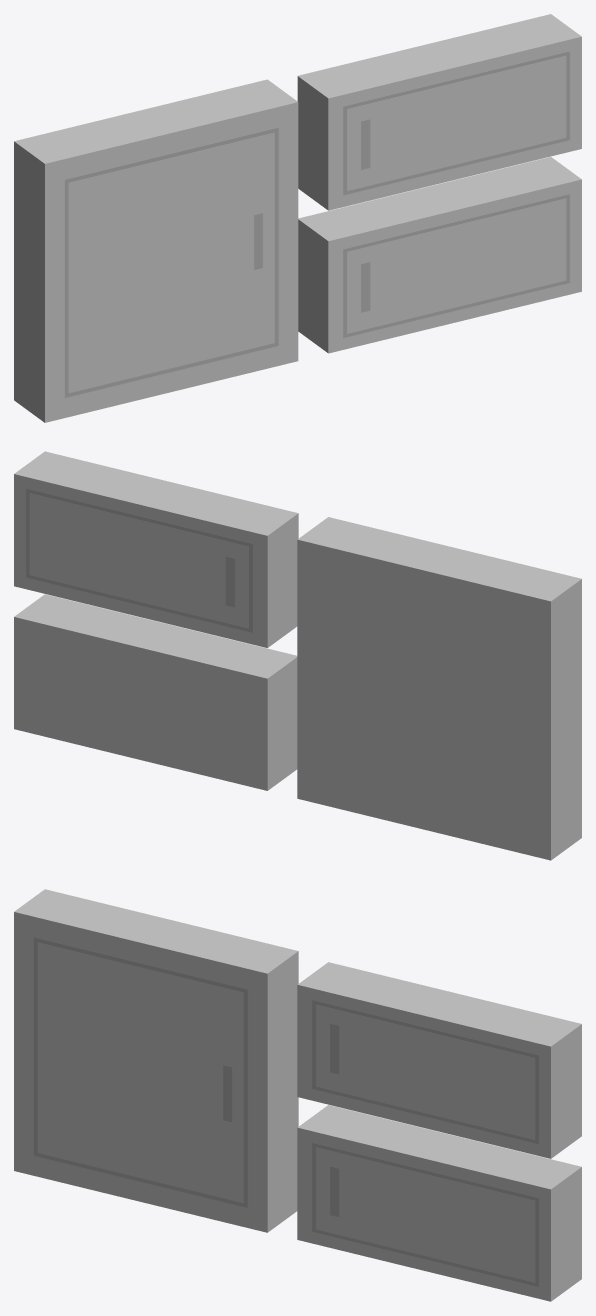
The model's file is obj_storage.fbx.
3 views of the same model, one above another, from view 1: azimuth 30°, elevation 25°; view 2: azimuth 150°, elevation 25°; view 3: azimuth 330°, elevation 25° (orthographic).
Parts seen in each view (by area): view 1: obj_storage; view 2: obj_storage; view 3: obj_storage.
Boxes of the visible parts, left/top/right/bottom form: obj_storage: left=14, top=14, right=581, bottom=422; obj_storage: left=14, top=451, right=581, bottom=860; obj_storage: left=14, top=889, right=581, bottom=1301.
Bounding box in the file's own units: 0.7145 × 0.3294 × 0.0716.
1 material, 1 textured.
